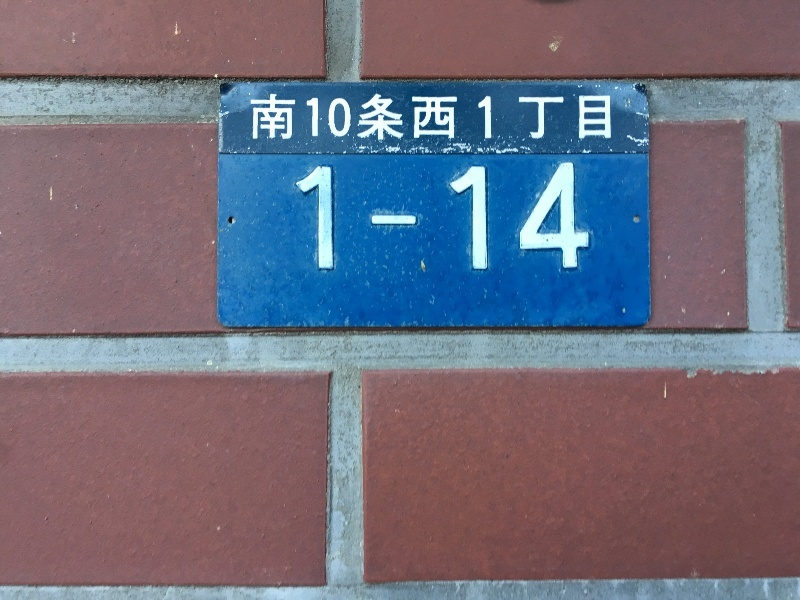text: (305, 162, 320, 272), (321, 162, 336, 272), (337, 162, 352, 272), (353, 162, 368, 272), (369, 162, 384, 272), (385, 162, 400, 272), (401, 162, 416, 272), (417, 162, 432, 272), (433, 162, 448, 272), (449, 162, 464, 272), (465, 162, 480, 272), (481, 162, 496, 272), (497, 162, 512, 272), (513, 162, 528, 272), (529, 162, 544, 272), (545, 162, 560, 272), (561, 162, 576, 272), (577, 162, 591, 272), (296, 162, 304, 272), (257, 94, 272, 139), (273, 94, 288, 139), (289, 94, 304, 139), (305, 94, 320, 139), (321, 94, 336, 139), (337, 94, 352, 139), (353, 94, 368, 139), (369, 94, 384, 139), (385, 94, 400, 139), (401, 94, 416, 139), (417, 94, 432, 139), (433, 94, 448, 139), (449, 94, 464, 139), (465, 94, 480, 139), (481, 94, 496, 139), (497, 94, 512, 139), (513, 94, 528, 139), (529, 94, 544, 139), (545, 94, 560, 139), (561, 94, 576, 139), (577, 94, 592, 139), (593, 94, 608, 139), (251, 94, 256, 139), (609, 94, 611, 139)
